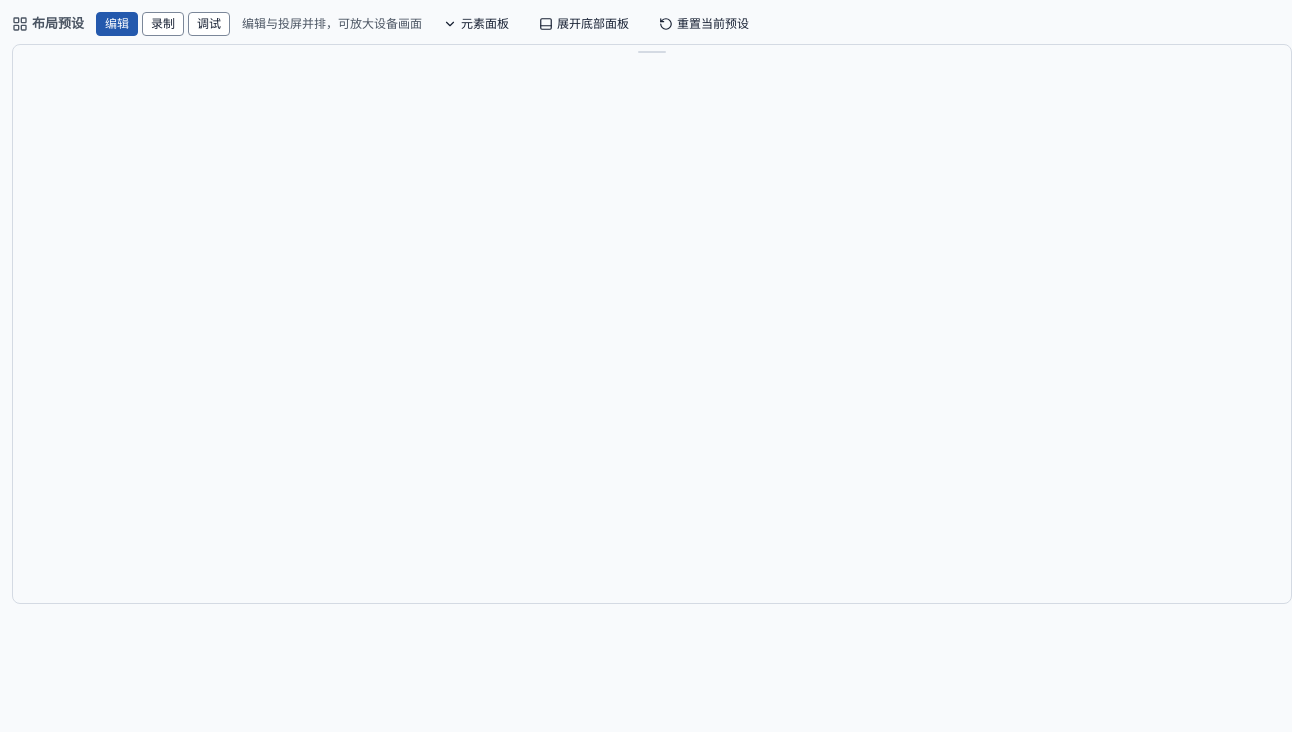
unused panels start folded and can be opened without rebuilding the device screen
The width and height of the screenshot is (1292, 732).
Click the button "元素面板" at [476, 24], box 434,12 -> 518,36
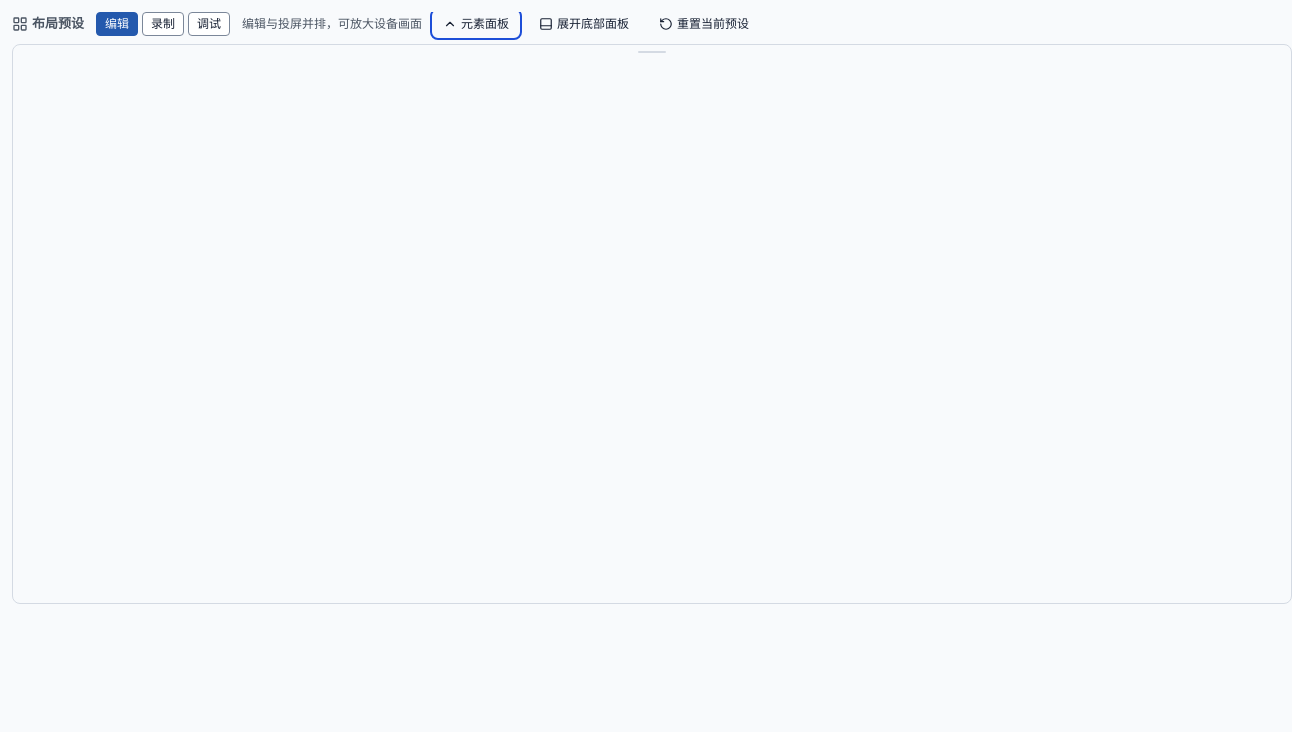
Now the button "元素面板" is pressed, box 434,12 -> 518,36
Click the button "展开底部面板" at [584, 24], box 530,12 -> 638,36
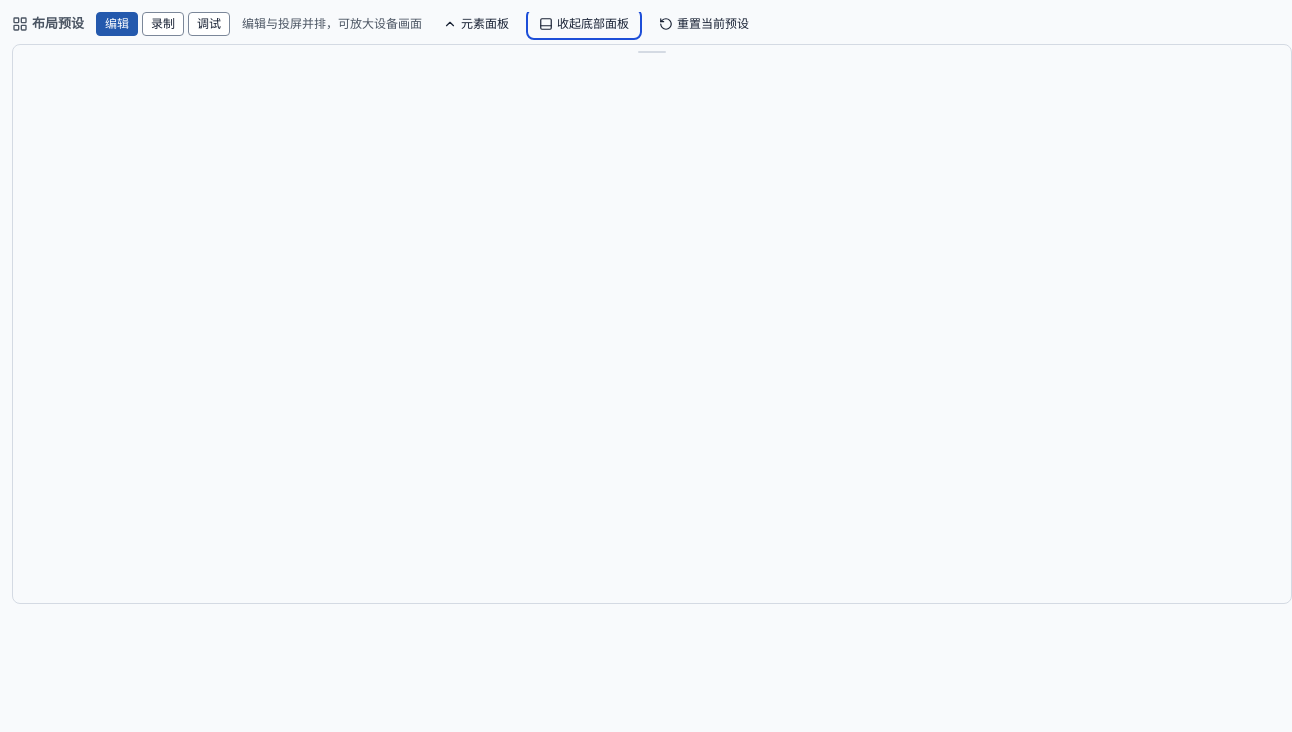
Now the button "收起底部面板" is pressed, box 530,12 -> 638,36
Click the button "元素面板" at [476, 24], box 434,12 -> 518,36
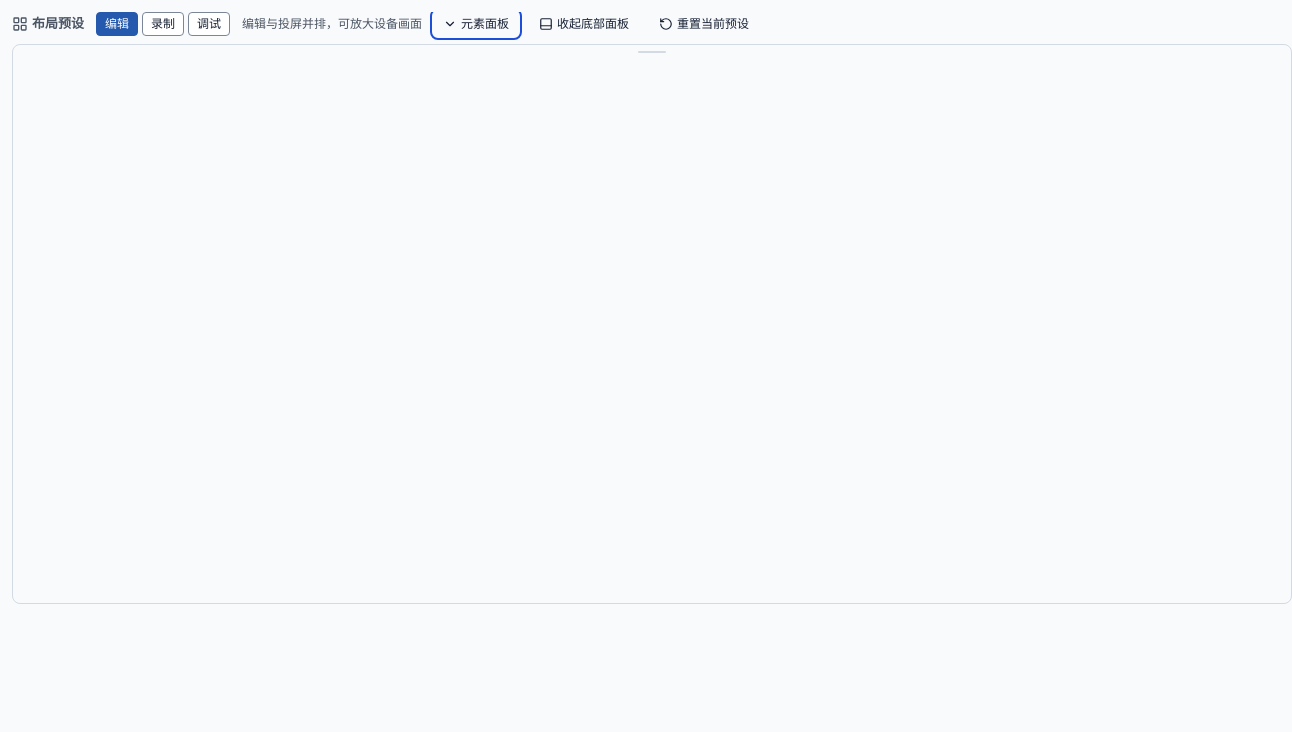
Now the button "元素面板" is not pressed, box 434,12 -> 518,36
Click the button "收起底部面板" at [584, 24], box 530,12 -> 638,36
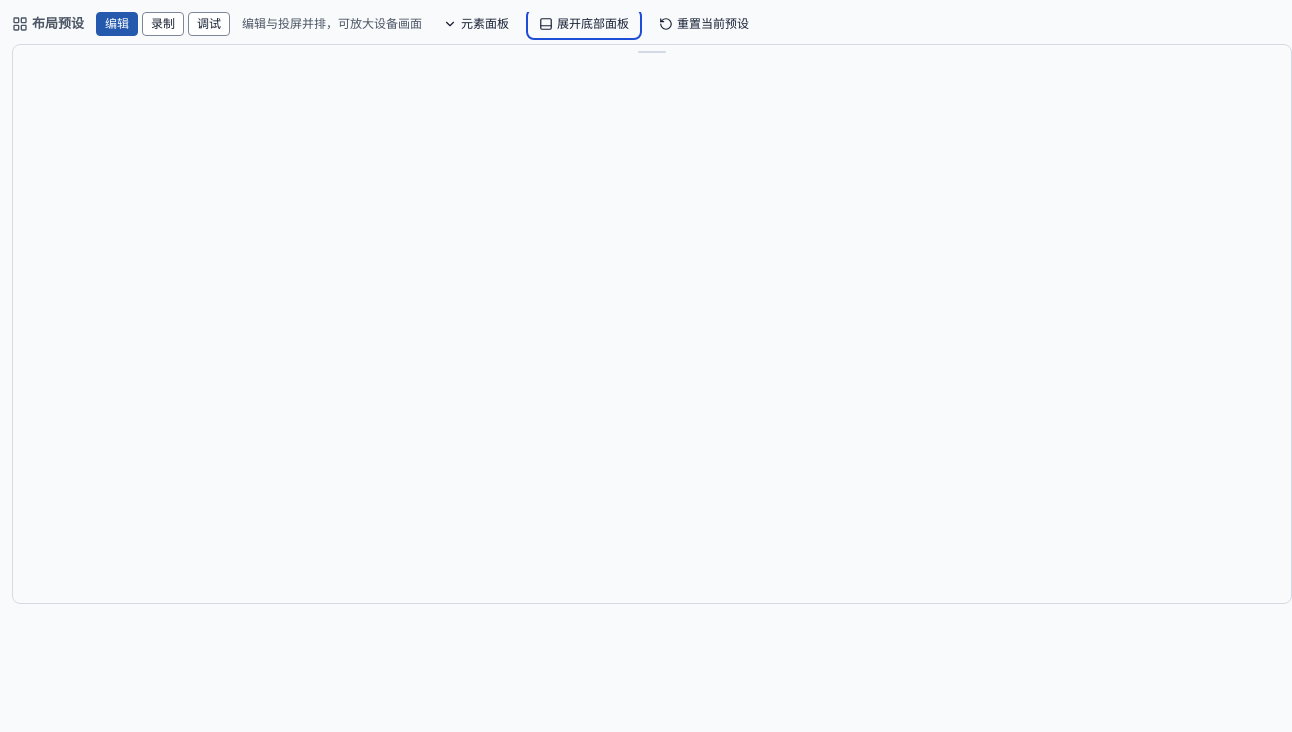
Now the button "展开底部面板" is shown, box 530,12 -> 638,36
